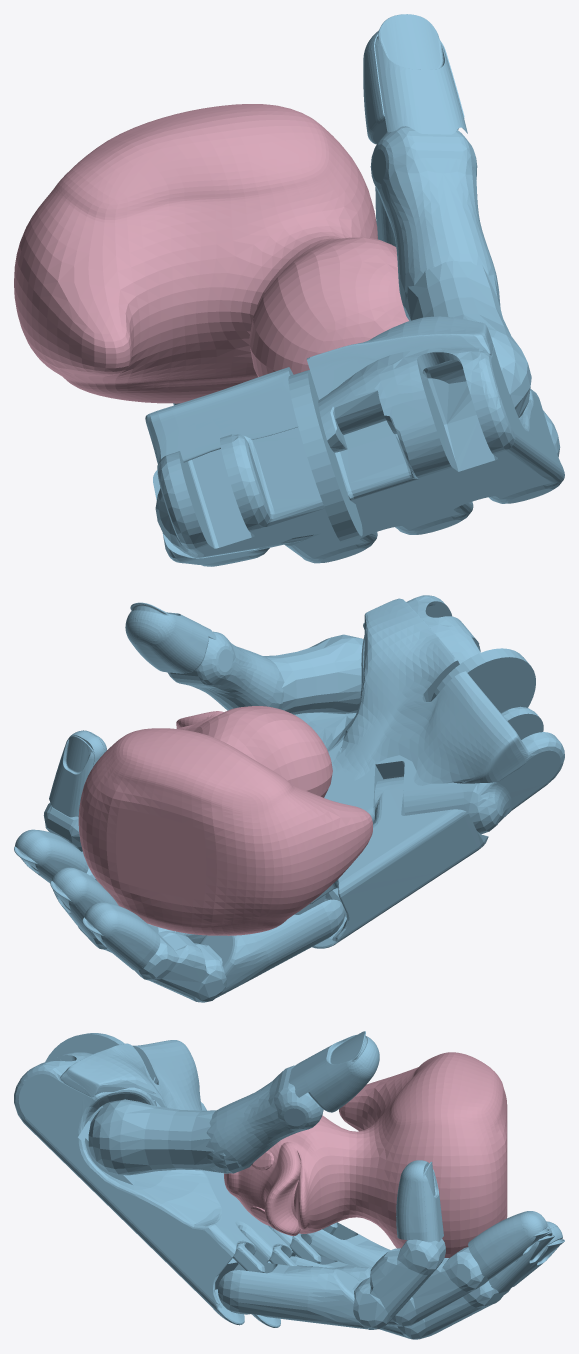
3 views of the same model, one above another, from view 1: azimuth 30°, elevation 25°; view 2: azimuth 150°, elevation 25°; view 3: azimuth 270°, elevation 25° (orthographic). The views are drawn at different scales.
Parts seen in each view (by area): view 1: world; view 2: world; view 3: world.
Boxes of the visible parts, x1,y1,x2,y2 form: world: (14, 14, 564, 566); world: (14, 595, 564, 1002); world: (14, 1031, 564, 1339).
Bounding box in the file's own units: 0.1344 × 0.1249 × 0.1864.
